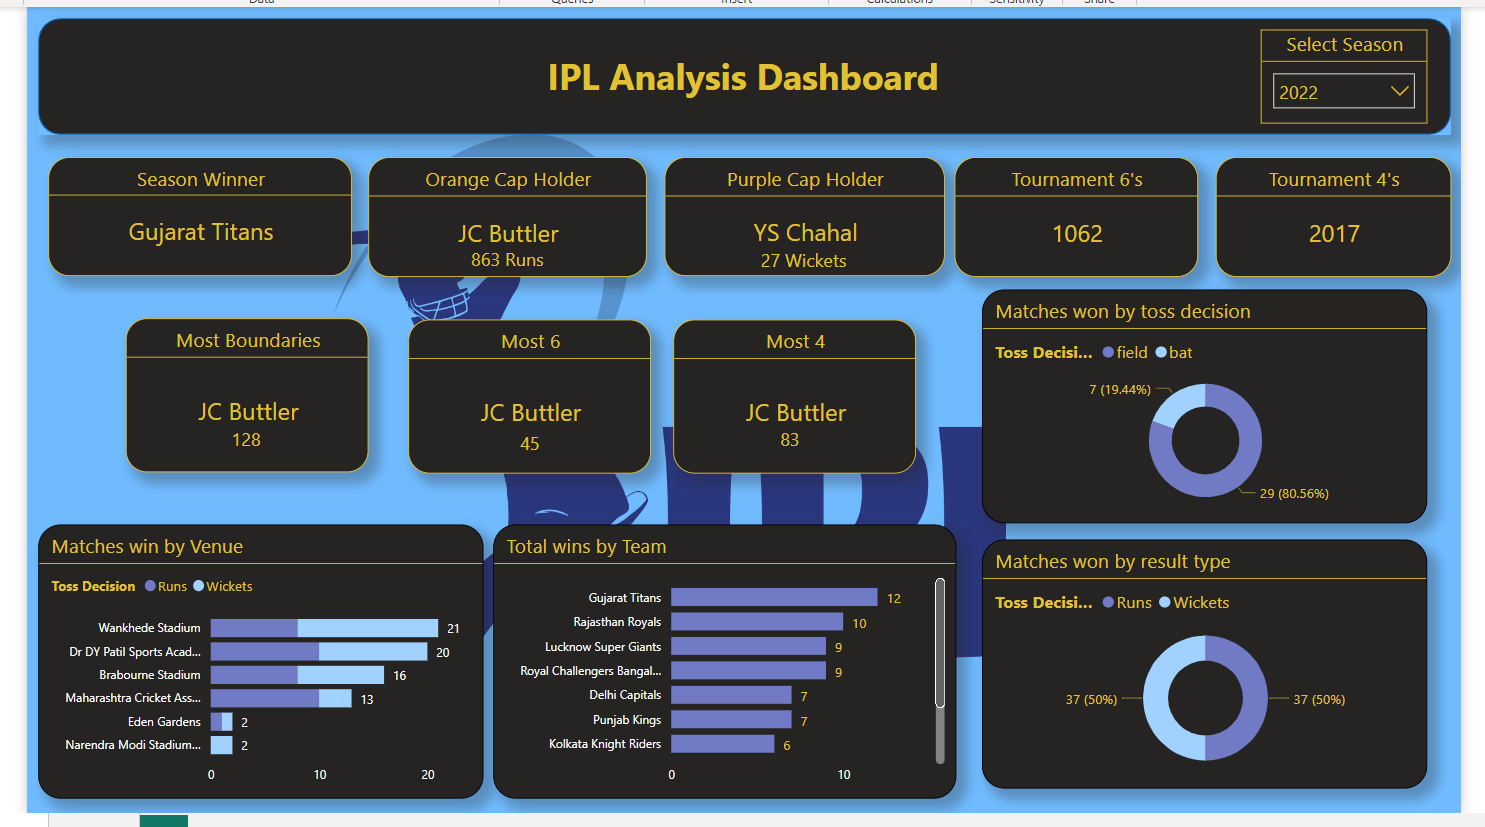

This screenshot's page, from the dashboard's own definition file:
{"tool":"powerbi","page":{"name":"IPL-Overall","canvas":[1280,720],"ordinal":0},"visuals":[{"type":"image","box":[253.3,0,693.5,693.5],"z":0},{"type":"shape","box":[10,10,1261.2,103.8],"z":1000},{"type":"textbox","box":[460,35,368.8,55],"z":2000},{"type":"slicer","title":"Select Season","fields":{"Values":["Calendar.Year"]},"box":[1101.2,20,148.8,83.8],"z":3000},{"type":"card","title":"Season Winner ","fields":{"Values":["ipl_matches_2008_2022.Title winner"]},"box":[18.8,133.8,271.2,106.2],"z":4000},{"type":"card","title":"Orange Cap Holder","fields":{"Values":["ipl_ball_by_ball_2008_2022.batter"]},"box":[305,133.8,248.8,107.5],"z":5000},{"type":"card","title":"Orange Cap Holder","fields":{"Values":["ipl_ball_by_ball_2008_2022.batter_runs"]},"box":[327.8,207.4,201.8,39.2],"z":6000},{"type":"card","title":"Purple Cap Holder","fields":{"Values":["ipl_ball_by_ball_2008_2022.bowler"]},"box":[568.8,133.8,250,106.2],"z":7000},{"type":"card","title":"Purple Cap Holder","fields":{"Values":["ipl_ball_by_ball_2008_2022.bowler_wickets"]},"box":[592.6,207.4,201.8,42],"z":8000},{"type":"card","title":"Tournament 6''s","fields":{"Values":["ipl_ball_by_ball_2008_2022.batsman_run"]},"box":[828.8,133.8,217.5,107.5],"z":9000},{"type":"card","title":"Tournament 4''s","fields":{"Values":["ipl_ball_by_ball_2008_2022.batsman_run"]},"box":[1061.2,133.8,210,107.5],"z":10000},{"type":"donutChart","title":"Matches won by toss decision","fields":{"Y":["ipl_matches_2008_2022.Matches won by toss decision"],"Category":["ipl_matches_2008_2022.toss_decision"]},"box":[852.5,252.5,397.5,208.8],"z":11000},{"type":"donutChart","title":"Matches won by result type","fields":{"Y":["ipl_matches_2008_2022.id"],"Category":["ipl_matches_2008_2022.won_by"]},"box":[852.5,475,397.5,222.5],"z":12000},{"type":"barChart","title":"Matches win by Venue","fields":{"Category":["ipl_matches_2008_2022.venue"],"Y":["ipl_matches_2008_2022.id"],"Series":["ipl_matches_2008_2022.won_by"]},"box":[9.8,462.3,397.9,245.2],"z":13000},{"type":"barChart","title":"Total wins by Team","fields":{"Category":["ipl_matches_2008_2022.winning_team"],"Y":["ipl_matches_2008_2022.winning_team"]},"box":[416.1,462.3,413.3,245.2],"z":14000},{"type":"card","title":"Most 4","fields":{"Values":["ipl_ball_by_ball_2008_2022.batter"]},"box":[577.2,278.8,217.2,137.3],"z":16000},{"type":"card","title":"Most 6","fields":{"Values":["ipl_ball_by_ball_2008_2022.Most6"]},"box":[623.5,357.3,114.9,61.6],"z":17000},{"type":"card","title":"Most 6","fields":{"Values":["ipl_ball_by_ball_2008_2022.batter"]},"box":[340.5,278.8,217.2,137.3],"z":18000},{"type":"card","title":"Most 6","fields":{"Values":["ipl_ball_by_ball_2008_2022.Most6"]},"box":[392.3,360.1,114.9,61.6],"z":19000},{"type":"card","title":"Most Boundaries","fields":{"Values":["ipl_ball_by_ball_2008_2022.batter"]},"box":[88.2,277.6,217.2,137.3],"z":20000},{"type":"card","title":"Most 6","fields":{"Values":["ipl_ball_by_ball_2008_2022.Mostbound"]},"box":[138.7,357.3,114.9,61.6],"z":21000}]}

Visuals, with their boxes on the page's 1280x720 design canvas (x1, y1, x2, y2). These are canvas units, not pixel positions in the 1485x827 screenshot, which may show the page scaled, cropped or inside an application window:
image: (left=253, top=0, right=947, bottom=694)
shape: (left=10, top=10, right=1271, bottom=114)
textbox: (left=460, top=35, right=829, bottom=90)
"Select Season" slicer: (left=1101, top=20, right=1250, bottom=104)
"Season Winner " card: (left=19, top=134, right=290, bottom=240)
"Orange Cap Holder" card: (left=305, top=134, right=554, bottom=241)
"Orange Cap Holder" card: (left=328, top=207, right=530, bottom=247)
"Purple Cap Holder" card: (left=569, top=134, right=819, bottom=240)
"Purple Cap Holder" card: (left=593, top=207, right=794, bottom=249)
"Tournament 6''s" card: (left=829, top=134, right=1046, bottom=241)
"Tournament 4''s" card: (left=1061, top=134, right=1271, bottom=241)
"Matches won by toss decision" donutChart: (left=852, top=252, right=1250, bottom=461)
"Matches won by result type" donutChart: (left=852, top=475, right=1250, bottom=698)
"Matches win by Venue" barChart: (left=10, top=462, right=408, bottom=708)
"Total wins by Team" barChart: (left=416, top=462, right=829, bottom=708)
"Most 4" card: (left=577, top=279, right=794, bottom=416)
"Most 6" card: (left=624, top=357, right=738, bottom=419)
"Most 6" card: (left=340, top=279, right=558, bottom=416)
"Most 6" card: (left=392, top=360, right=507, bottom=422)
"Most Boundaries" card: (left=88, top=278, right=305, bottom=415)
"Most 6" card: (left=139, top=357, right=254, bottom=419)
